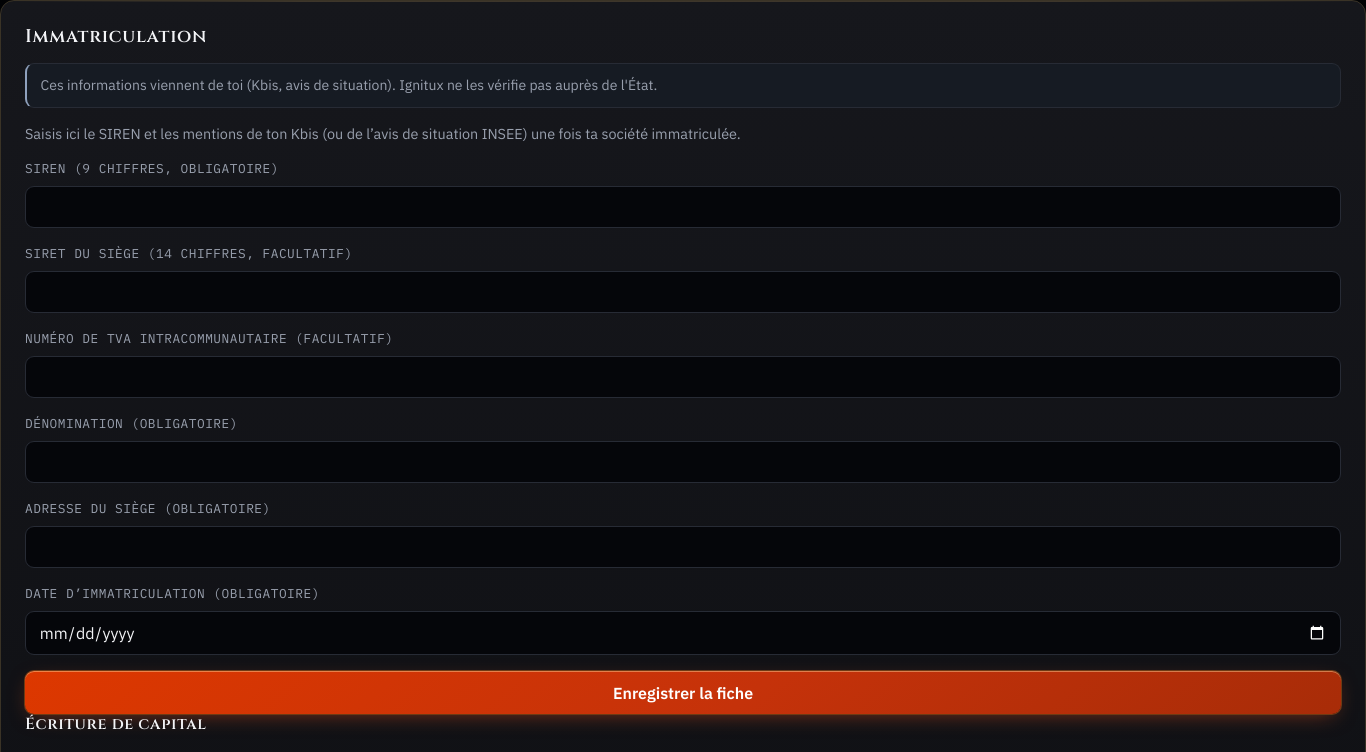
Scenario: ImmatriculationSection › les champs sont dans un formulaire : Entrée (soumission) enregistre la fiche
In the field labelled "SIREN (9 chiffres, obligatoire)": (683, 207) [25,186,1341,228], type "732829320"
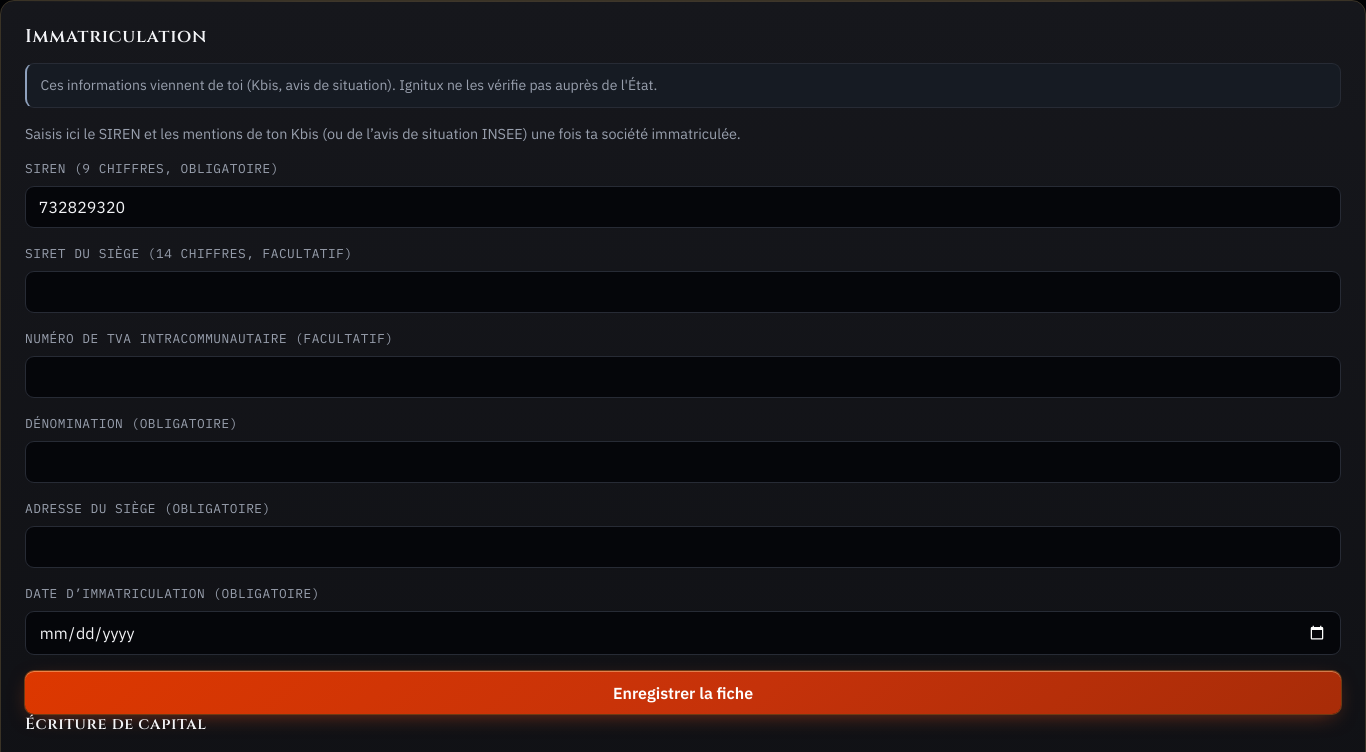
In the field labelled "Dénomination (obligatoire)": (683, 462) [25,441,1341,483], type "Moto École SAS"
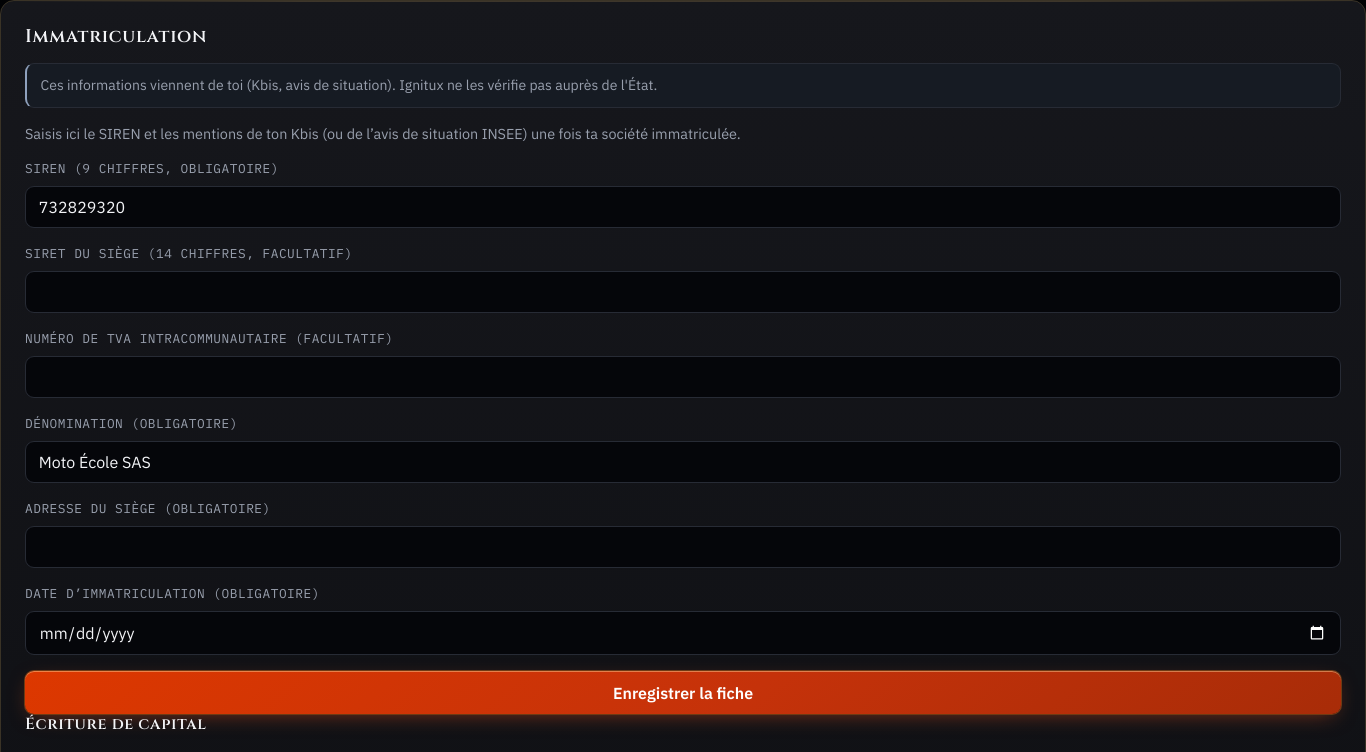
In the field labelled "Adresse du siège (obligatoire)": (683, 547) [25,526,1341,568], type "1 rue de la Piste"
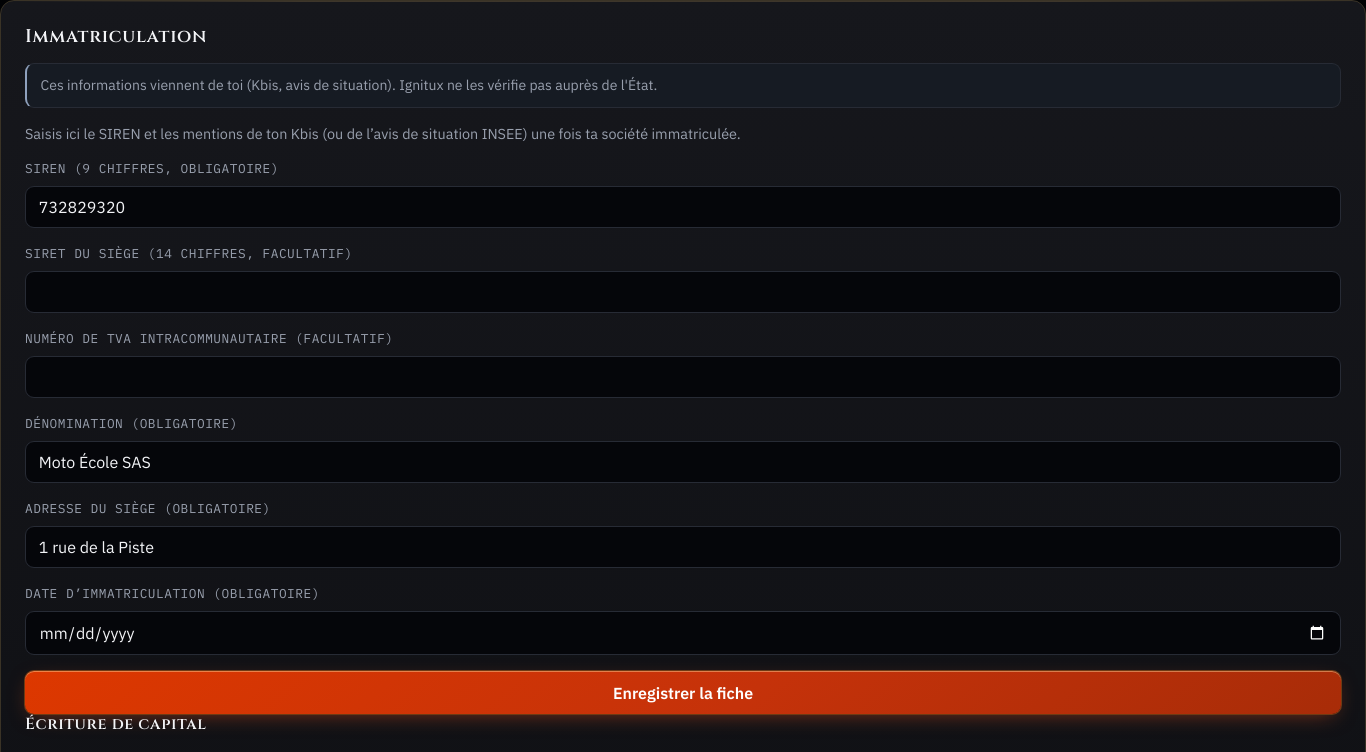
In the date field labelled "Date d’immatriculation (obligatoire)": (683, 633) [25,611,1341,655], type "2026-10-01"
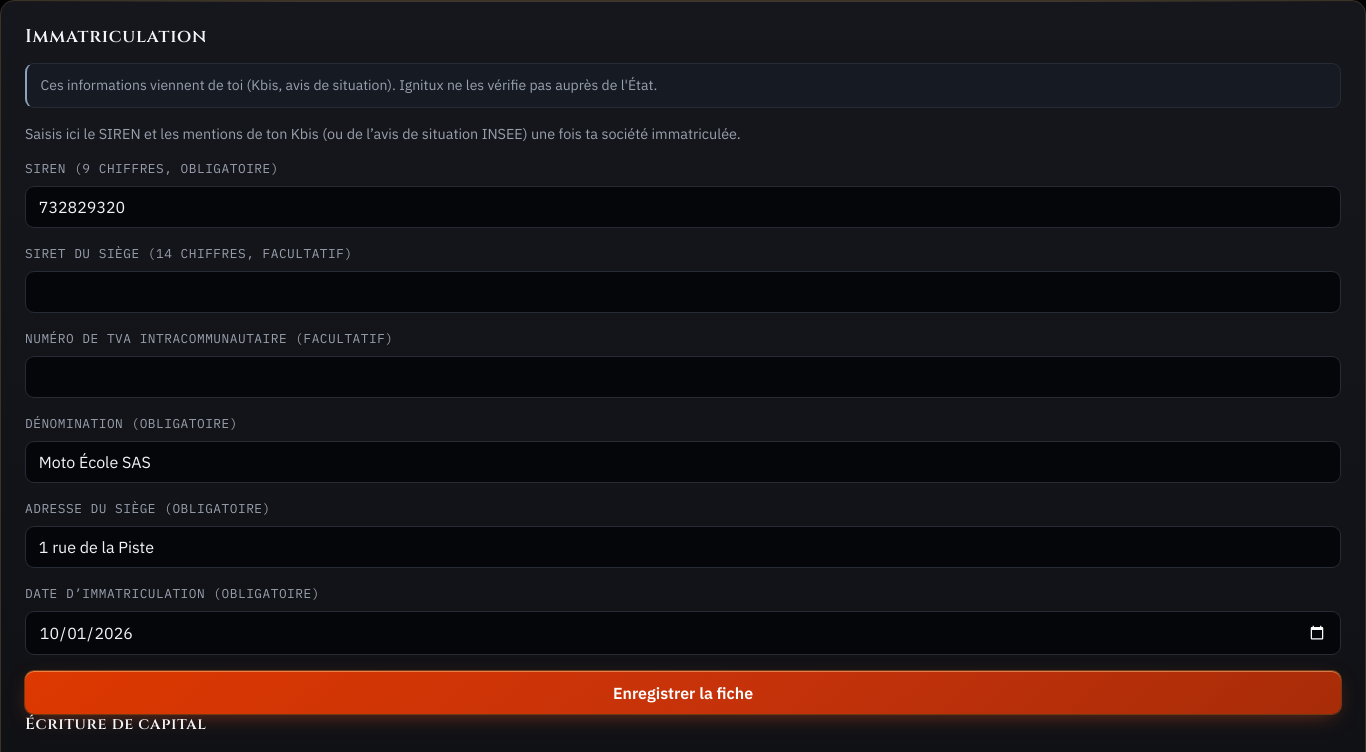
Submit the form named "Fiche d’immatriculation"
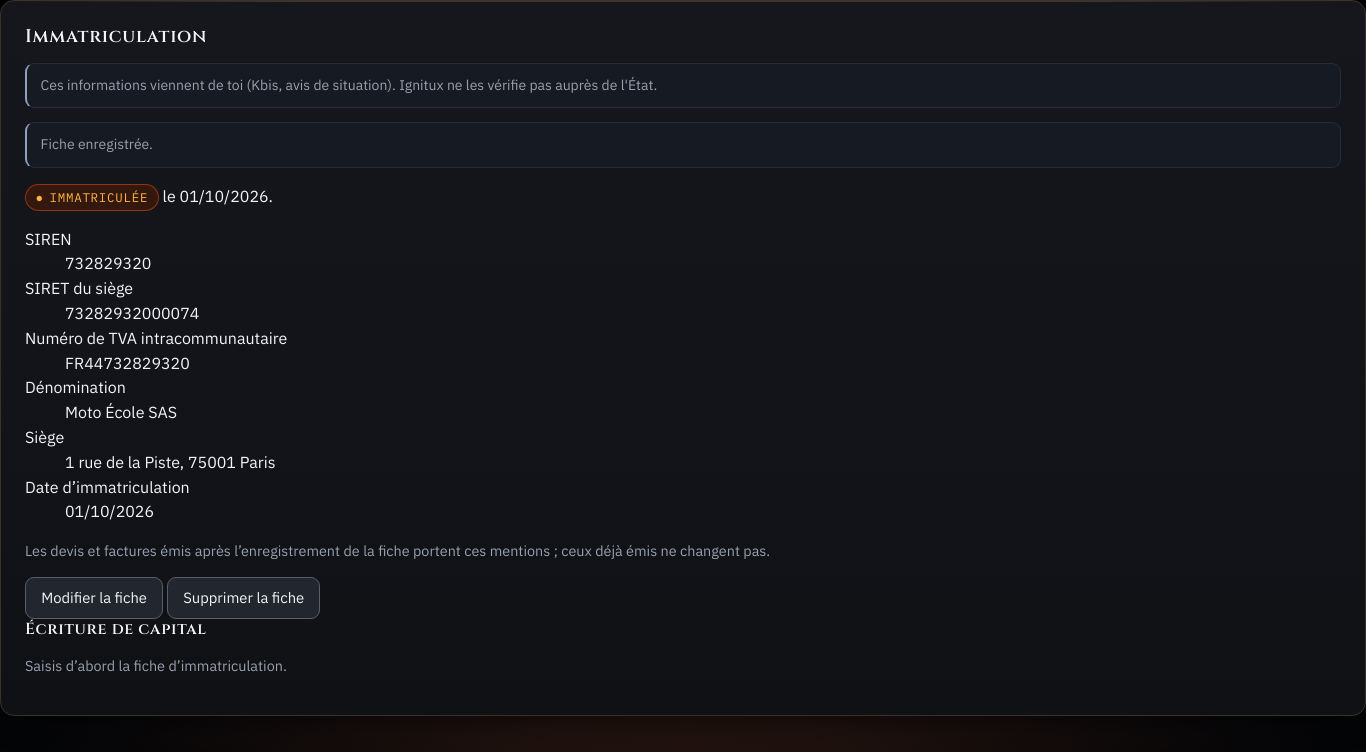
Check: the text "Fiche enregistrée." is shown, box [25,122,1341,168]
